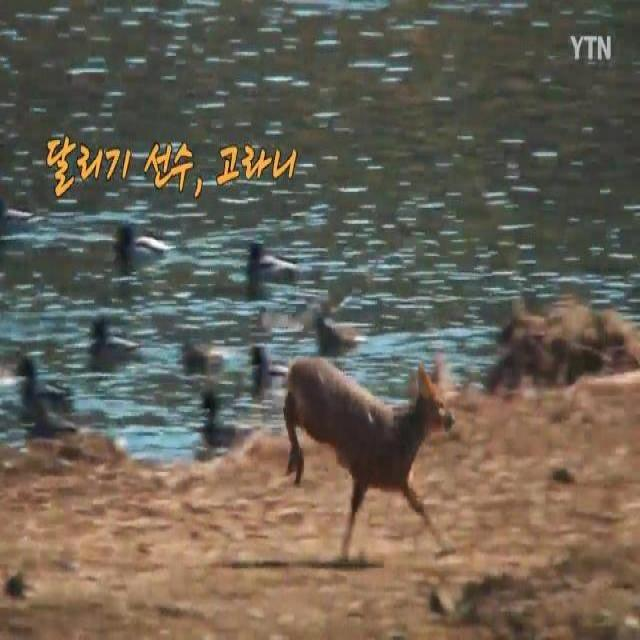deer: (284, 351, 456, 561)
